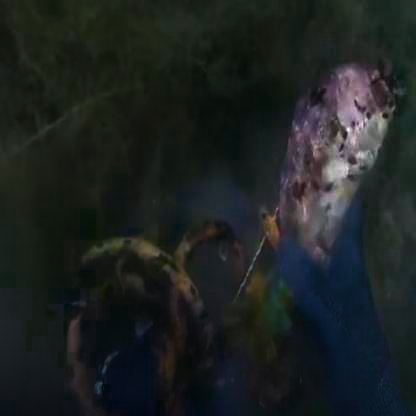misc: (309, 47, 416, 260)
